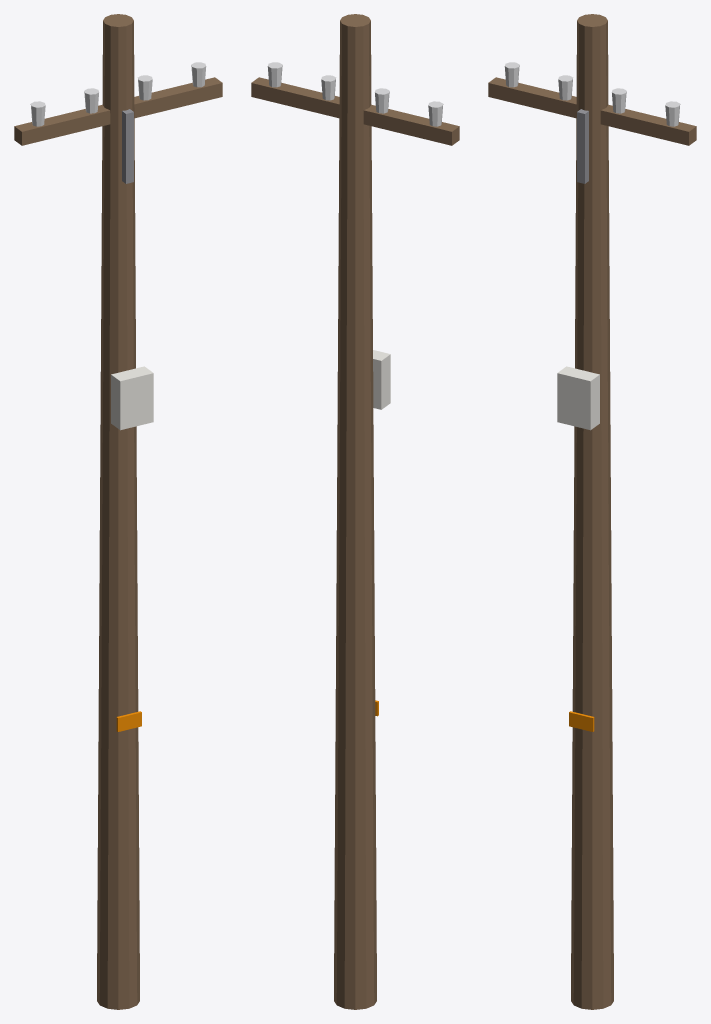
File: pole.glb
The picture shows the model from 3 angles, left to right: view 1: azimuth 30°, elevation 25°; view 2: azimuth 150°, elevation 25°; view 3: azimuth 330°, elevation 25°; orthographic projection.
Visible parts, largest first — view 1: pole, crossarm, drop_box, brace; view 2: pole, crossarm, drop_box; view 3: pole, crossarm, drop_box, brace.
Part boxes in pixels (x1,y1,x2,y2): pole: [97, 14, 139, 1009]; crossarm: [14, 77, 222, 145]; drop_box: [111, 366, 153, 430]; brace: [122, 109, 133, 183]; pole: [334, 14, 376, 1009]; crossarm: [251, 77, 459, 145]; drop_box: [373, 350, 390, 409]; pole: [571, 14, 613, 1009]; crossarm: [488, 77, 696, 145]; drop_box: [557, 366, 599, 430]; brace: [577, 109, 588, 183].
Bounding box in the file's own units: 1.5 × 7 × 0.38.
